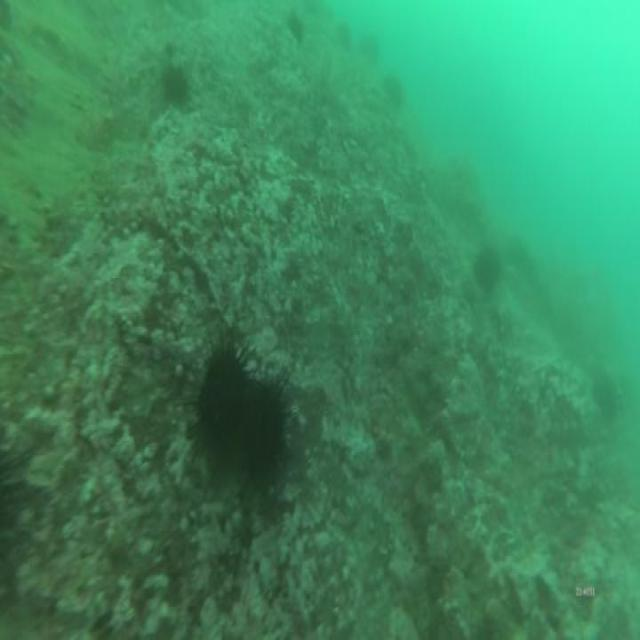echinus: (190, 328, 254, 464), (233, 362, 290, 491), (590, 358, 624, 424), (470, 237, 503, 297), (161, 57, 191, 115), (356, 29, 380, 70), (284, 10, 308, 48), (384, 65, 404, 109), (333, 17, 355, 54)
